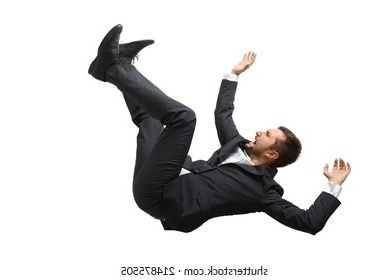fall: (82, 15, 377, 237)
